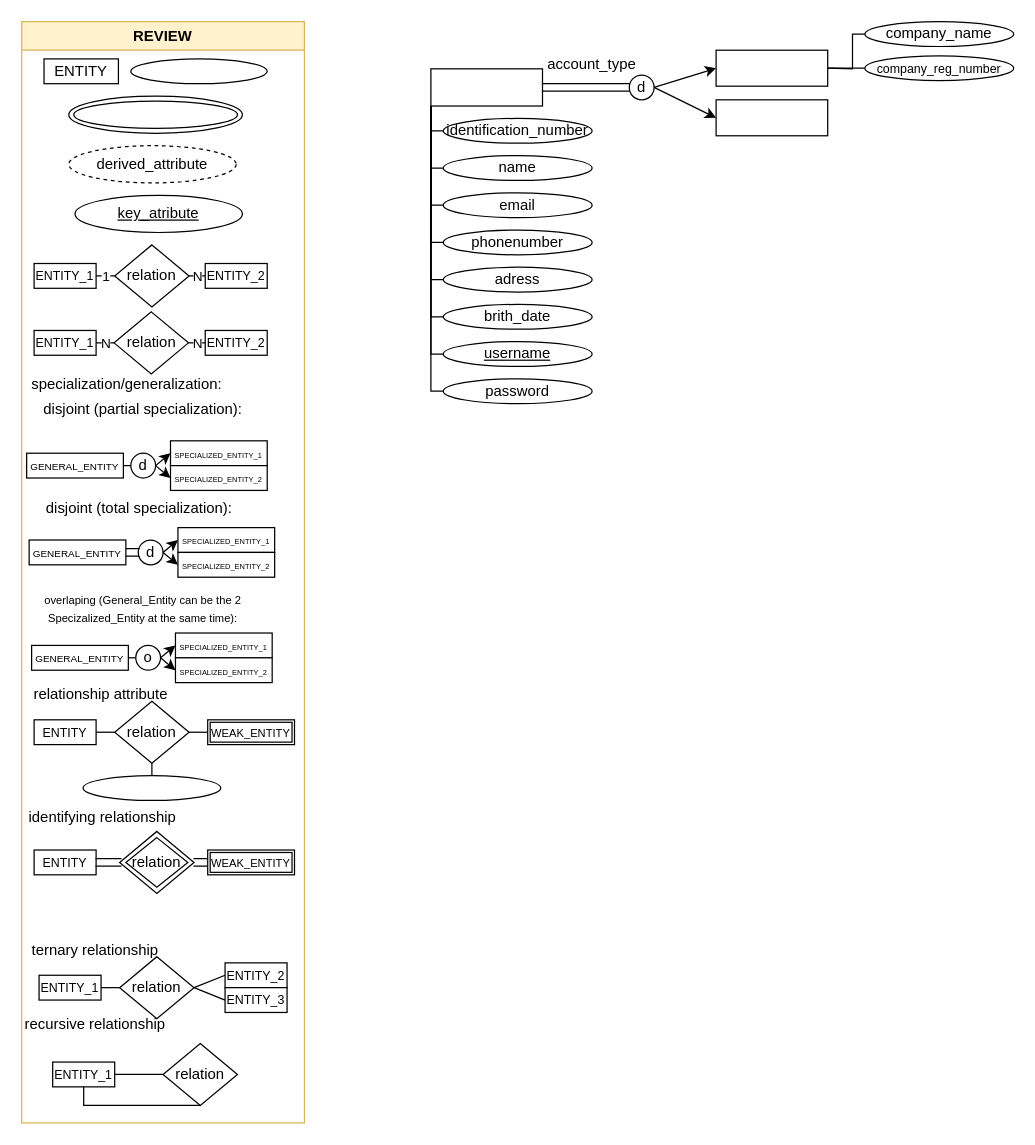
The diagram is 1035 pixels wide and 1145 high, and some of its shapes have lost their labels. Each missing label, with the centre of its shape:
"atribute" goes at (198,71).
"Company_Account" goes at (771,67).
"multivalued_attribute" goes at (155,114).
"Personal_Account" goes at (771,117).
"relation_atribute" goes at (151,787).
"User" goes at (486,87).
